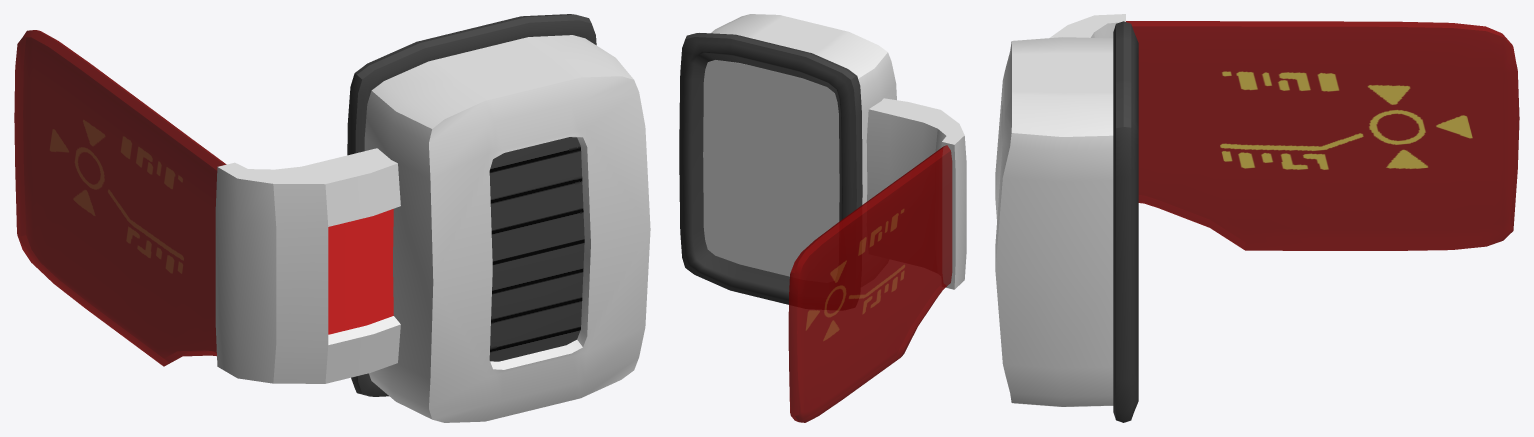
Rendered from Scouter.FBX.
3 renders of one model, left to right at view 1: azimuth 30°, elevation 25°; view 2: azimuth 150°, elevation 25°; view 3: azimuth 270°, elevation 25°, orthographic. The views are drawn at different scales.
Visible parts, largest first — view 1: Scouter; view 2: Scouter; view 3: Scouter.
Part boxes in pixels (x1,y1,x2,y2): Scouter: (14, 14, 650, 422); Scouter: (679, 14, 966, 422); Scouter: (995, 14, 1519, 422).
Bounding box in the file's own units: 201 × 178 × 258.
5 materials, 5 textured.
